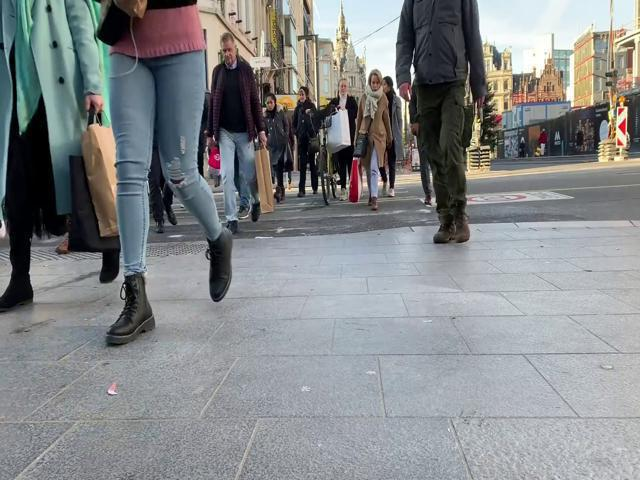shoe: (104, 275, 155, 344), (208, 228, 232, 303), (1, 275, 34, 314), (434, 215, 454, 243), (455, 213, 468, 242)
